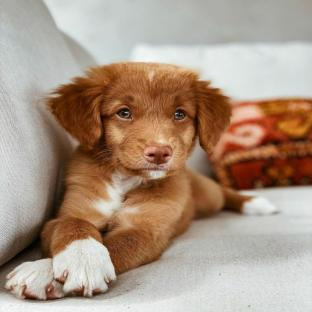Animal: (6, 62, 276, 300)
